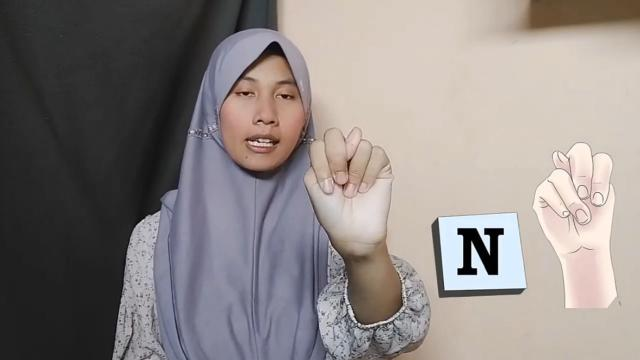N: (302, 123, 404, 261)
